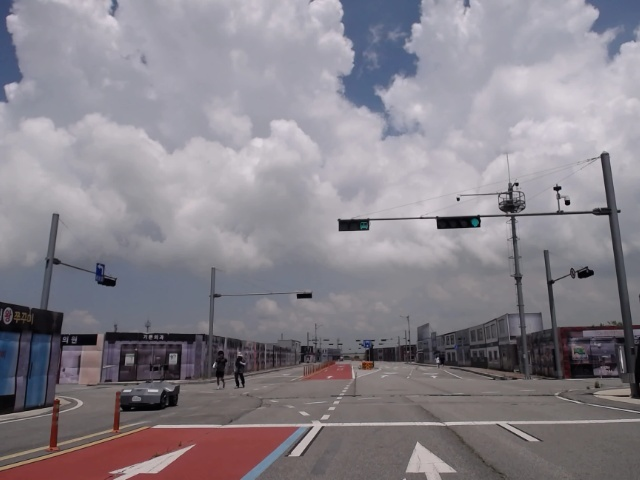straight_green_4: (438, 217, 481, 227)
